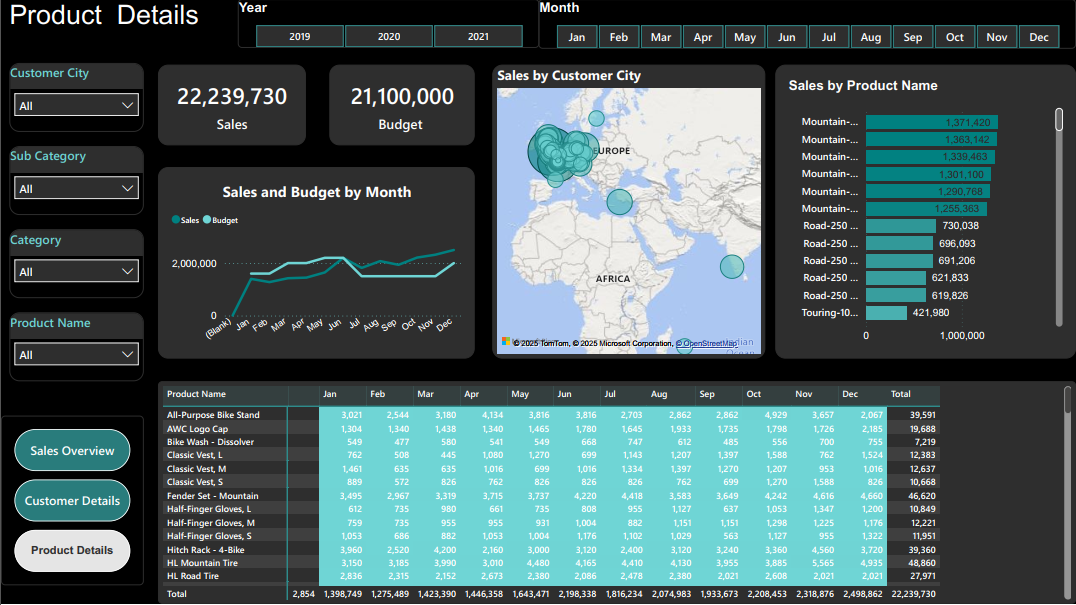

The page's visual inventory and layout, read from the dashboard file:
{"tool":"powerbi","page":{"name":"Product Details","canvas":[1280,720],"ordinal":2},"visuals":[{"type":"textbox","box":[10.1,0,1269.9,58.8],"z":0},{"type":"slicer","title":"Year","fields":{"Values":["DIM_Calendar.Year"]},"box":[282.1,0,358.6,58.1],"z":1},{"type":"slicer","title":"Month","fields":{"Values":["DIM_Calendar.MonthShort"]},"box":[640,0,640,58.8],"z":2},{"type":"card","fields":{"Values":["Key Measures.Sales"]},"box":[187.1,78,175.8,96.4],"z":4},{"type":"card","fields":{"Values":["Key Measures.Budget Amount"]},"box":[391.2,78,172.9,96.4],"z":5},{"type":"lineChart","title":"Sales and Budget  by Month","fields":{"Category":["DIM_Calendar.MonthShort"],"Y":["Key Measures.Sales","Key Measures.Budget Amount"]},"box":[187.1,199.8,377,228.2],"z":6},{"type":"map","fields":{"Category":["DIM_Customers.Customer City"],"Size":["Key Measures.Sales"]},"box":[585.4,78,324.6,350.1],"z":8},{"type":"slicer","title":"Customer City","fields":{"Values":["DIM_Customers.Customer City"]},"box":[10.1,75.6,159.6,82.3],"z":9},{"type":"slicer","title":"Sub Category","fields":{"Values":["DIM_Products.Sub Category"]},"box":[10.1,174.7,159.6,82.3],"z":10},{"type":"slicer","title":"Category","fields":{"Values":["DIM_Products.Product Category"]},"box":[10.1,273.8,159.6,82.3],"z":11},{"type":"slicer","title":"Product Name","fields":{"Values":["DIM_Products.Product Name"]},"box":[10.1,372.9,159.6,82.3],"z":12},{"type":"barChart","fields":{"Category":["DIM_Products.Product Name"],"Y":["Key Measures.Sales"]},"box":[922,78,358,350],"z":13},{"type":"pivotTable","fields":{"Rows":["DIM_Products.Product Name"],"Columns":["DIM_Calendar.MonthShort"],"Values":["Key Measures.Sales"]},"box":[187.1,455,1092.8,265],"z":14},{"type":"pageNavigator","box":[0,495.5,169.7,201.6],"z":15}]}

Visuals, with their boxes in screenshot pixels (x1, y1, x2, y2), scaled from the page's 1280x720 canvas onto the 1076x605 screenshot:
textbox: left=8, top=0, right=1075, bottom=49
"Year" slicer: left=237, top=0, right=539, bottom=49
"Month" slicer: left=538, top=0, right=1075, bottom=49
card - Key Measures.Sales: left=157, top=66, right=305, bottom=147
card - Key Measures.Budget Amount: left=329, top=66, right=474, bottom=147
"Sales and Budget  by Month" lineChart: left=157, top=168, right=474, bottom=360
map - DIM_Customers.Customer City x Key Measures.Sales: left=492, top=66, right=765, bottom=360
"Customer City" slicer: left=8, top=64, right=143, bottom=133
"Sub Category" slicer: left=8, top=147, right=143, bottom=216
"Category" slicer: left=8, top=230, right=143, bottom=299
"Product Name" slicer: left=8, top=313, right=143, bottom=382
barChart - DIM_Products.Product Name x Key Measures.Sales: left=775, top=66, right=1075, bottom=360
pivotTable - DIM_Products.Product Name x DIM_Calendar.MonthShort: left=157, top=382, right=1075, bottom=604
pageNavigator: left=0, top=416, right=143, bottom=586
